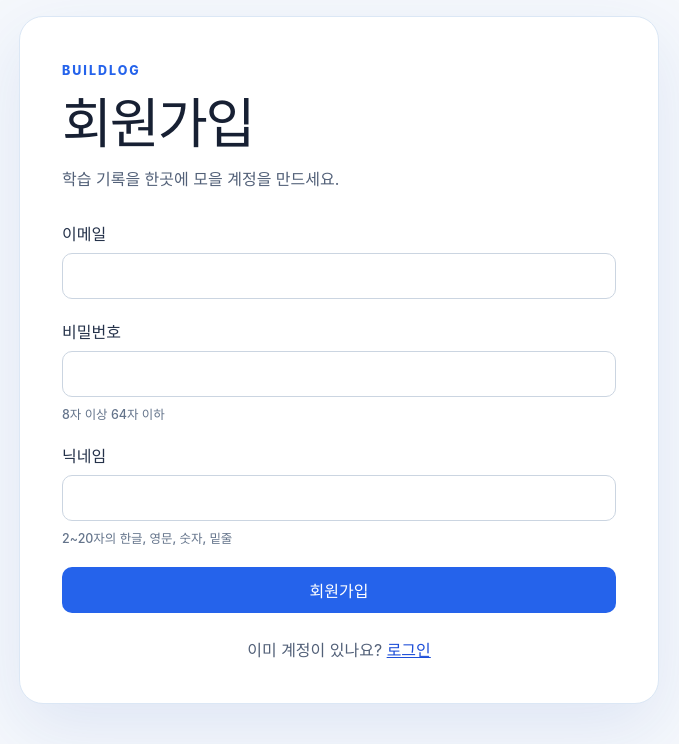
Test case: 회원 화면 › 회원가입 성공 후 로그인 화면을 보여준다
Step 1. Type "student@example.com" into the field labelled "이메일" → {"x": 339, "y": 276}, box top-left (62, 253), bottom-right (616, 299)
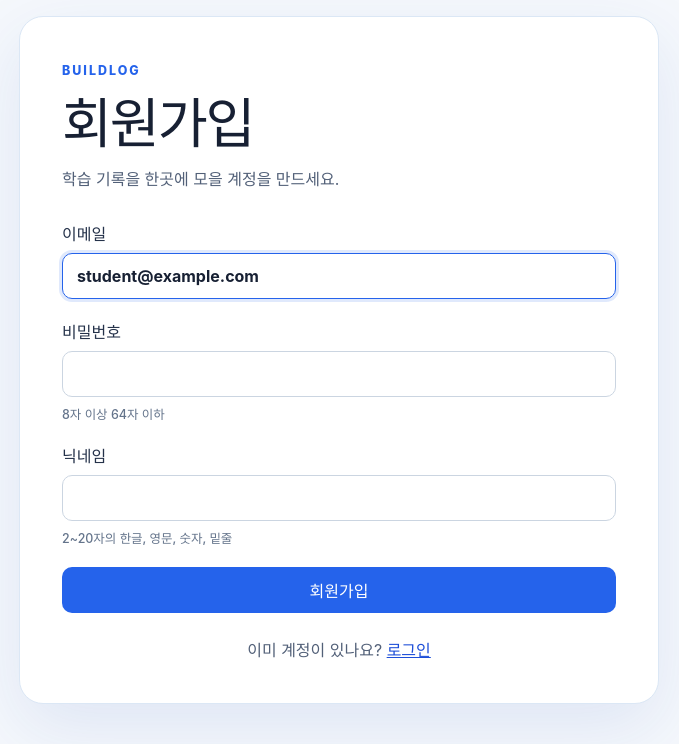
Step 2. Type "password123" into the password field labelled "비밀번호 8자 이상 64자 이하" → {"x": 339, "y": 374}, box top-left (62, 351), bottom-right (616, 397)
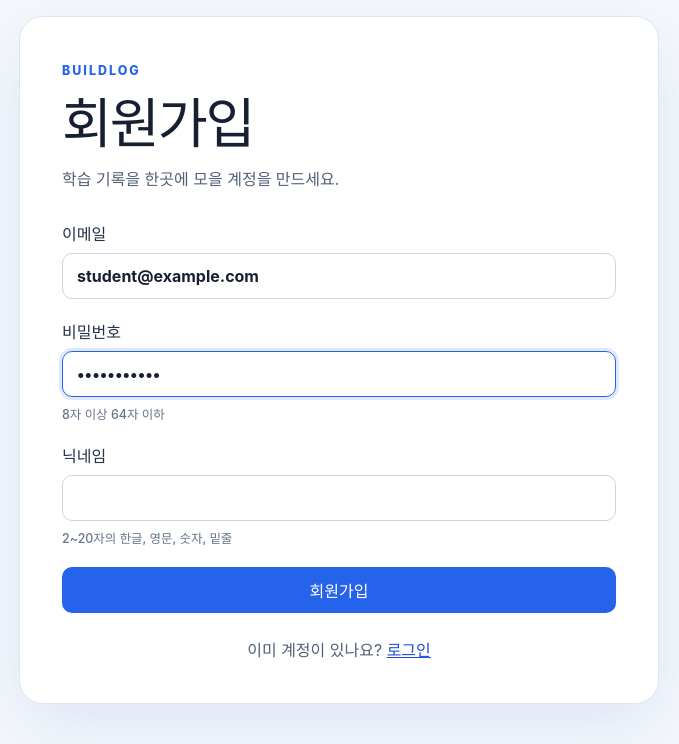
Step 3. Type "학습자" into the field labelled "닉네임 2~20자의 한글, 영문, 숫자, 밑줄" → {"x": 339, "y": 498}, box top-left (62, 475), bottom-right (616, 521)
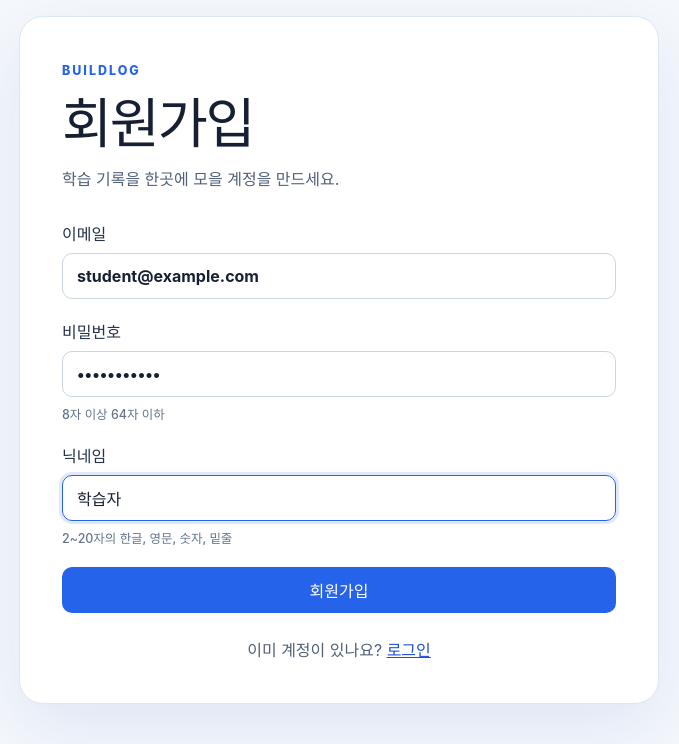
Step 4. Click the button "회원가입" → {"x": 339, "y": 590}, box top-left (62, 567), bottom-right (616, 613)
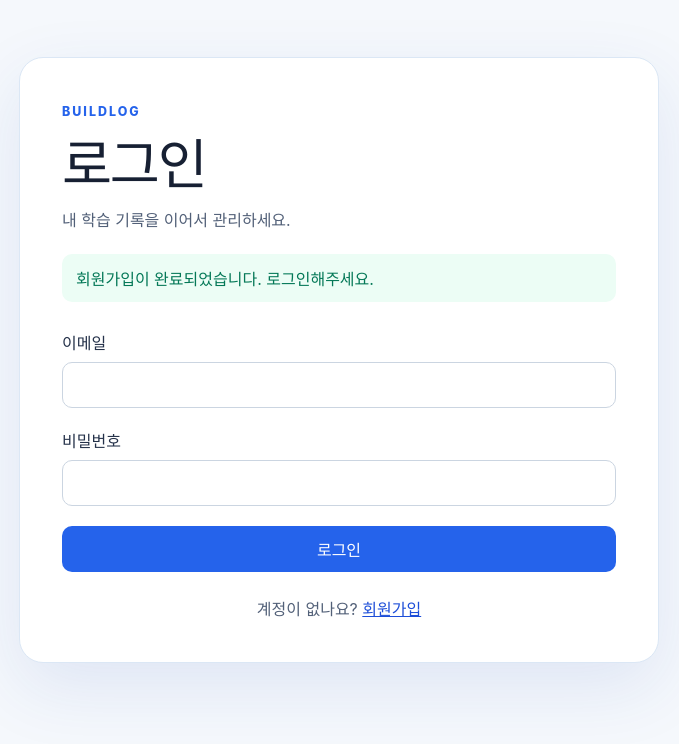
Result: the heading "로그인" is shown at top-left (62, 131), bottom-right (206, 197)
Result: the text "회원가입이 완료되었습니다. 로그인해주세요." is shown at top-left (62, 254), bottom-right (616, 302)
